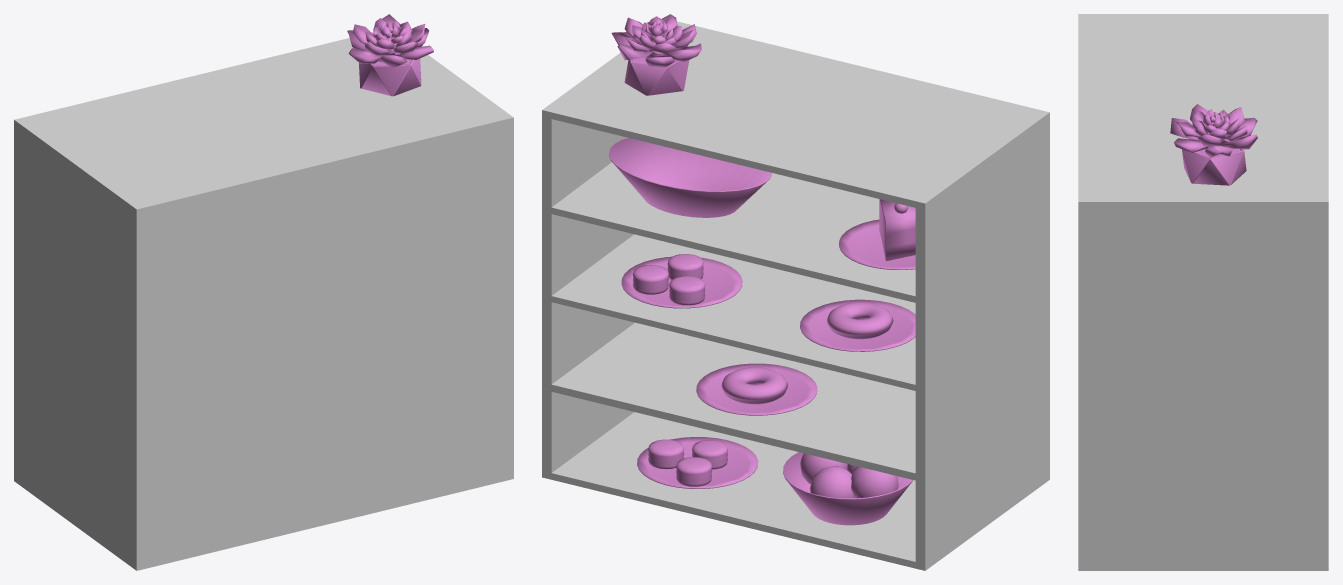
Rendered from GlassShelf.fbx.
The picture shows the model from 3 angles, left to right: view 1: azimuth 30°, elevation 25°; view 2: azimuth 150°, elevation 25°; view 3: azimuth 270°, elevation 25°; orthographic projection. The views are drawn at different scales.
Visible parts, largest first — view 1: GlassShelf, succulent plant; view 2: GlassShelf, succulent plant; view 3: GlassShelf, succulent plant.
Boxes of the visible parts, x1=… form: GlassShelf: x1=14, y1=32, x2=513, y2=570; succulent plant: x1=347, y1=14, x2=433, y2=96; GlassShelf: x1=542, y1=21, x2=1049, y2=570; succulent plant: x1=609, y1=14, x2=915, y2=525; GlassShelf: x1=1078, y1=14, x2=1328, y2=570; succulent plant: x1=1170, y1=104, x2=1257, y2=185.
Size of the model in its own units: 116 by 124 by 65.17.
